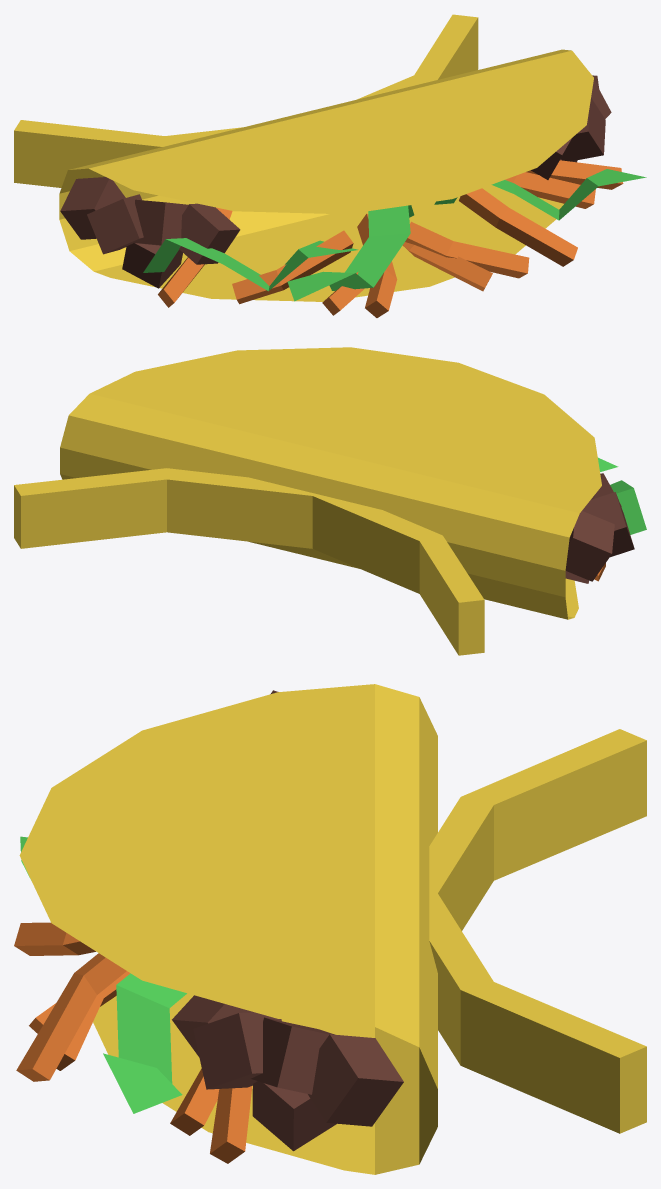
File: hat-taco.glb
3 renders of one model, top to bottom at view 1: azimuth 30°, elevation 25°; view 2: azimuth 150°, elevation 25°; view 3: azimuth 270°, elevation 25°, orthographic. The views are drawn at different scales.
Visible parts, largest first — view 1: hat-taco; view 2: hat-taco; view 3: hat-taco.
Part boxes in pixels (x1,y1,x2,y2): hat-taco: (14, 14, 646, 317); hat-taco: (14, 347, 646, 655); hat-taco: (14, 684, 646, 1174).
Bounding box in the file's own units: 1.07 × 0.2125 × 0.7567.
Materials: 1 (1 with a texture image).
